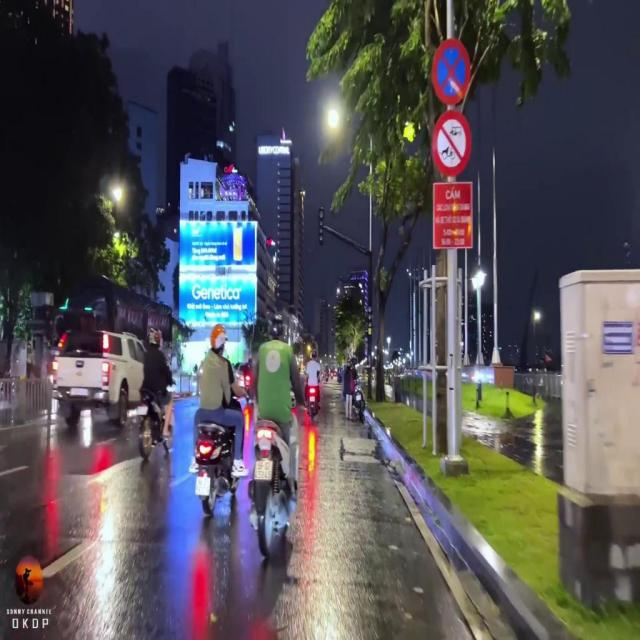cam_cac_loai_xe_3_banh: (431, 110, 471, 177)
cam_dung_xe_va_do_xe: (432, 39, 471, 105)
